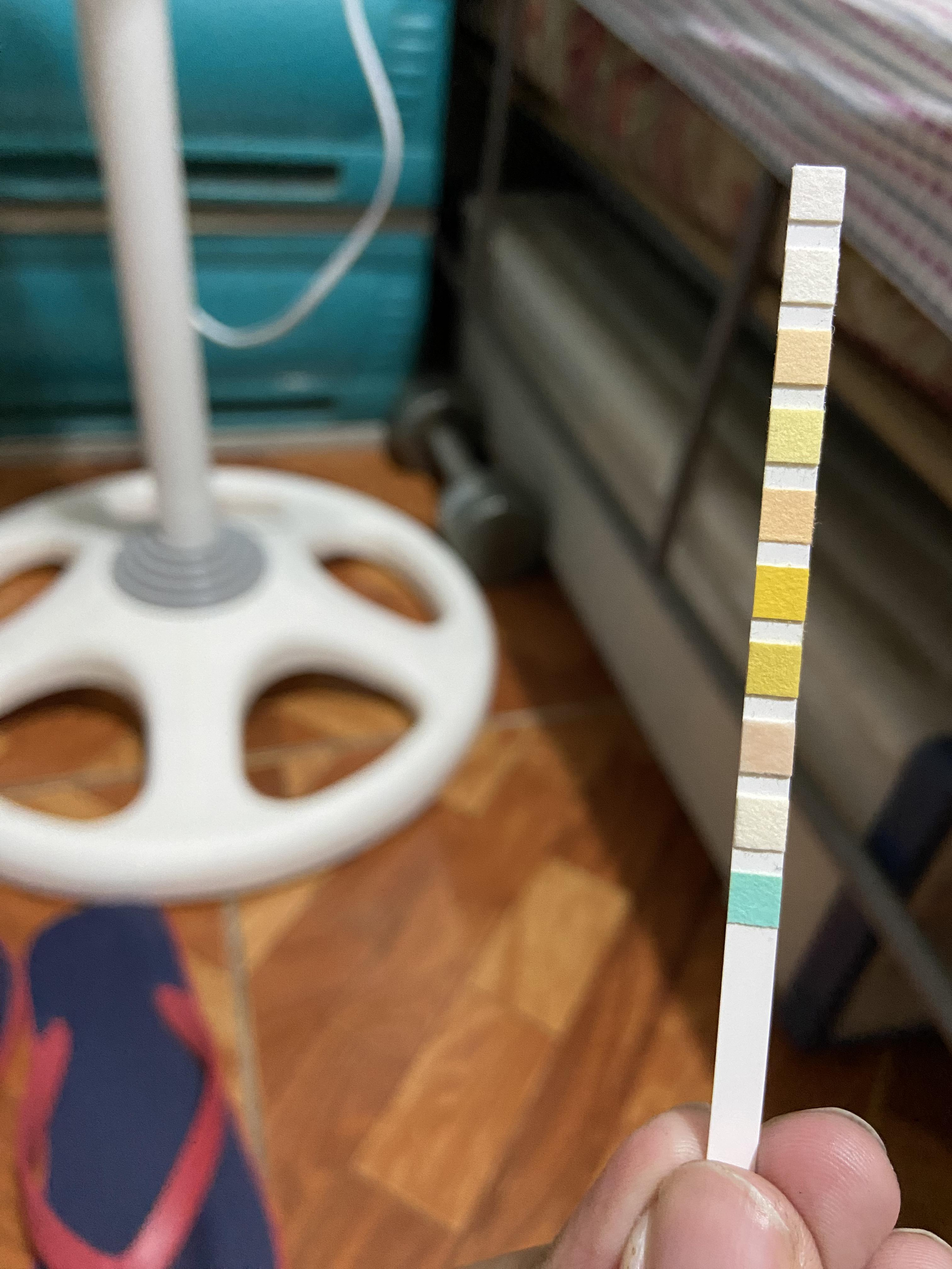Bilirubin: (737, 802, 785, 848)
Blood: (756, 570, 805, 618)
Glucose: (731, 877, 779, 922)
Ketone: (743, 723, 793, 772)
Leukocytes: (792, 169, 842, 219)
Nitrite: (786, 251, 835, 302)
Protein: (770, 412, 820, 459)
SpGravity: (750, 646, 798, 694)
Urobilinogen: (779, 331, 827, 383)
pH: (763, 492, 812, 539)
strip: (707, 164, 845, 1159)
